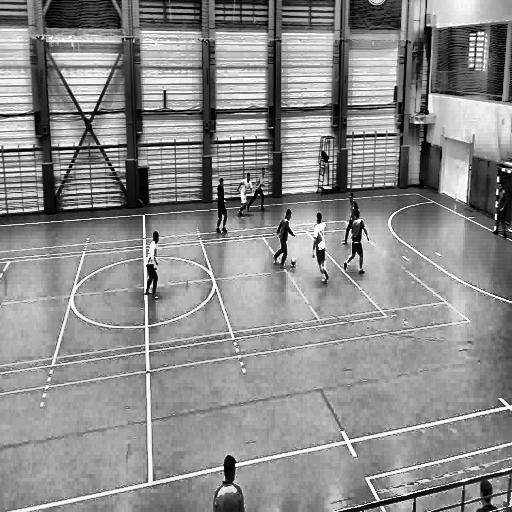ball: (289, 254, 298, 268)
player: (344, 208, 369, 276), (312, 213, 332, 287), (273, 207, 296, 271), (143, 231, 160, 301), (342, 192, 361, 244), (492, 180, 508, 241), (249, 167, 268, 214), (214, 176, 229, 235), (234, 172, 253, 217)
